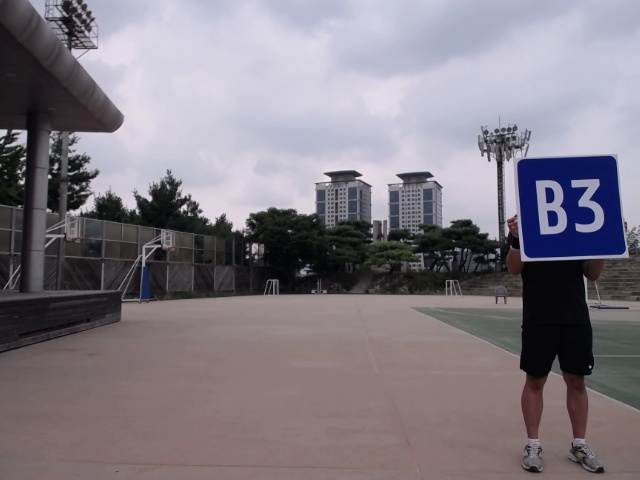delivery_b3: (516, 153, 629, 260)
